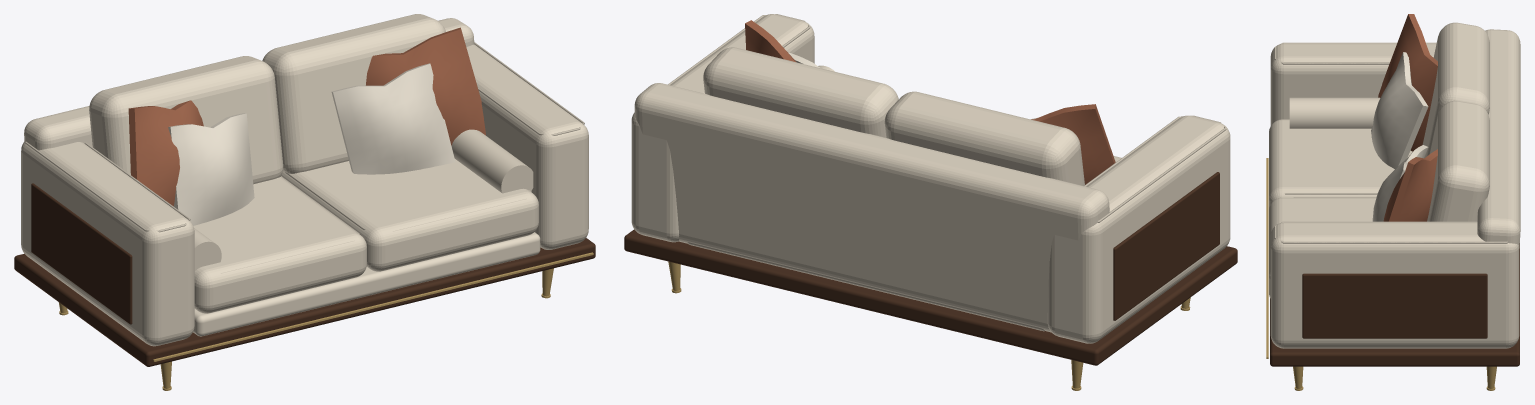
The model's file is milano-alabaster-2.glb.
The picture shows the model from 3 angles, left to right: view 1: azimuth 30°, elevation 25°; view 2: azimuth 150°, elevation 25°; view 3: azimuth 270°, elevation 25°; orthographic projection. The views are drawn at different scales.
Bounding box in the file's own units: 1.7 × 0.8344 × 0.8932.
